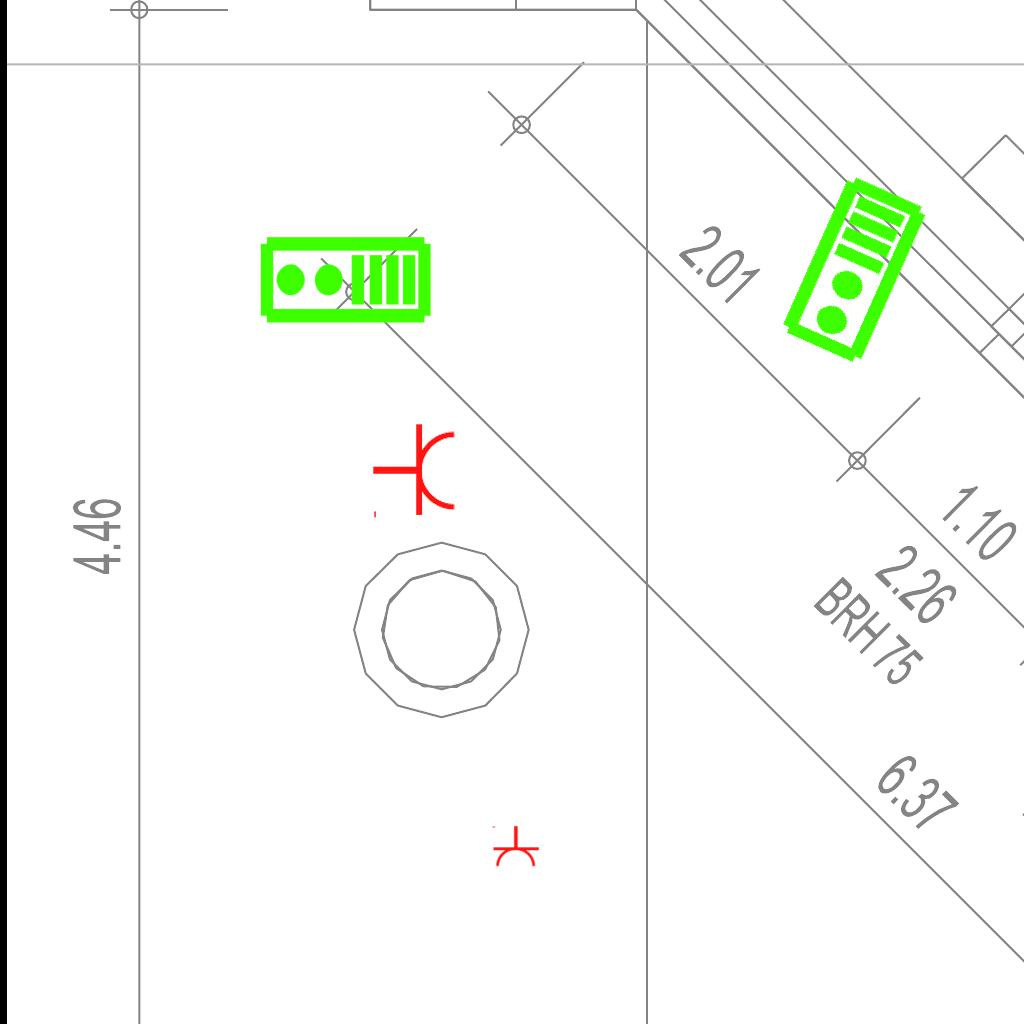Gegensprechanlage_mit_Video: (776, 171, 935, 371), (257, 234, 433, 329)
Schukosteckdose_einfach: (371, 422, 458, 522), (490, 825, 540, 868)
